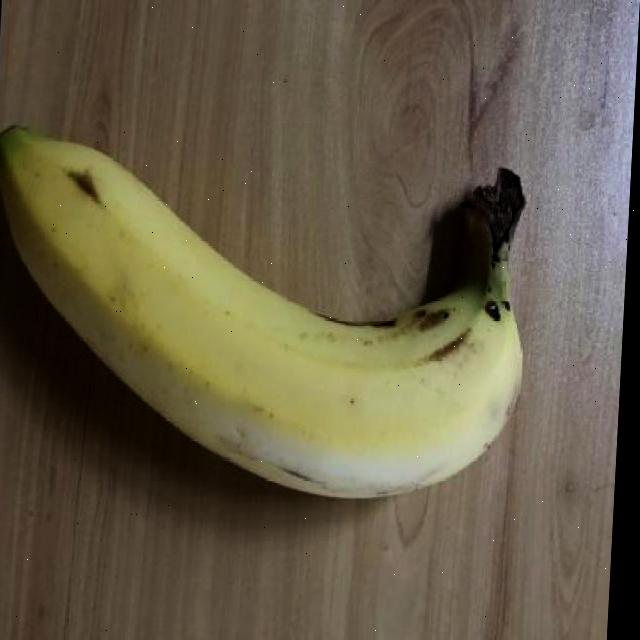banana: (0, 119, 556, 506)
